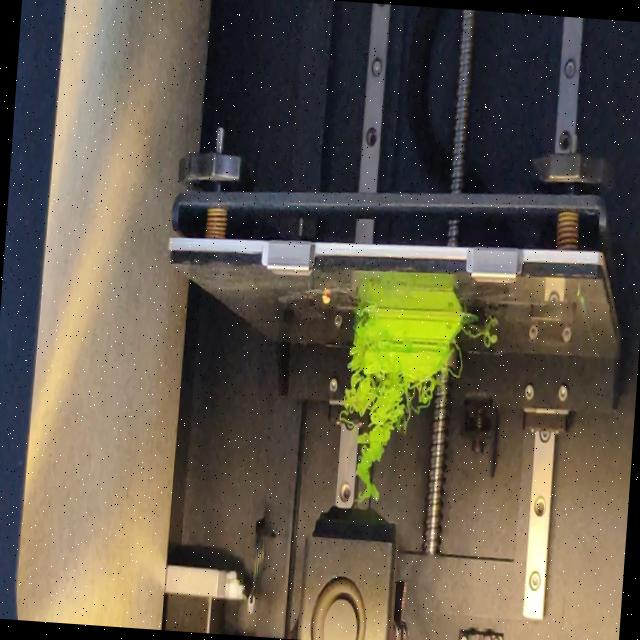spaghetti: (336, 360, 437, 510), (346, 306, 366, 361), (464, 323, 498, 350), (448, 340, 465, 382)
